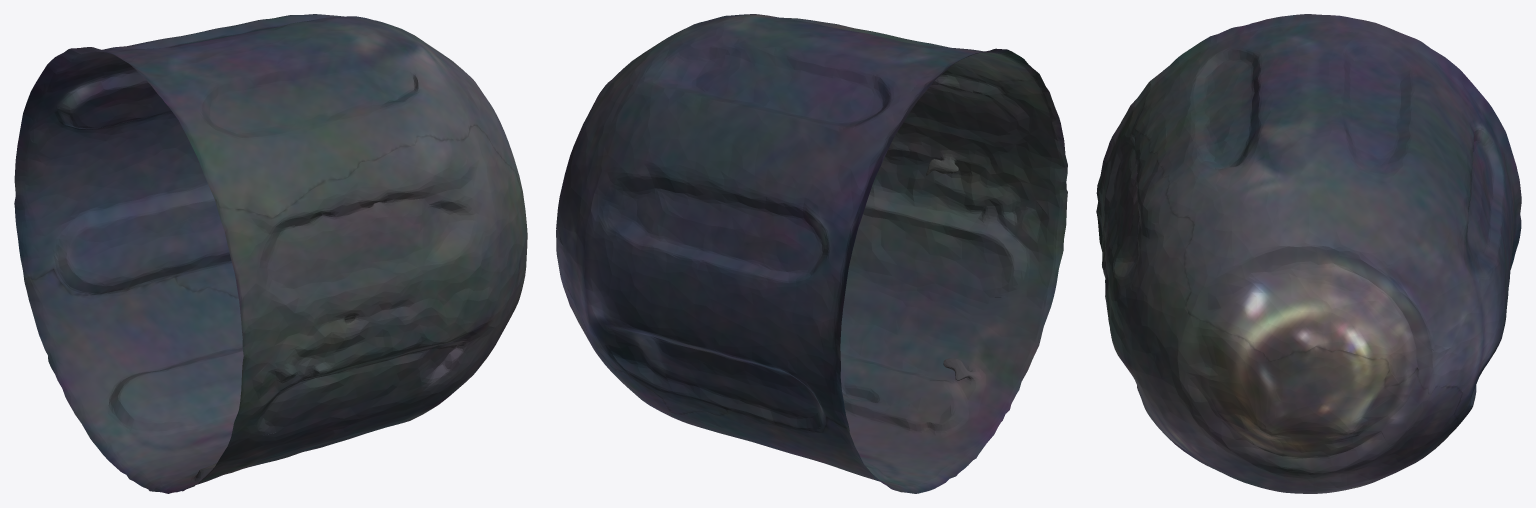
Rendered from chuck.obj.
3 renders of one model, left to right at view 1: azimuth 30°, elevation 25°; view 2: azimuth 150°, elevation 25°; view 3: azimuth 270°, elevation 25°, orthographic. The views are drawn at different scales.
Visible parts, largest first — view 1: chuck_wkretmed200k.001; view 2: chuck_wkretmed200k.001; view 3: chuck_wkretmed200k.001.
Part boxes in pixels (left/top/right/bottom): chuck_wkretmed200k.001: left=14, top=14, right=527, bottom=493; chuck_wkretmed200k.001: left=556, top=14, right=1067, bottom=493; chuck_wkretmed200k.001: left=1096, top=14, right=1521, bottom=493.
Size of the model in its own units: 0.0398 by 0.0422 by 0.0421.
1 material, 1 textured.
